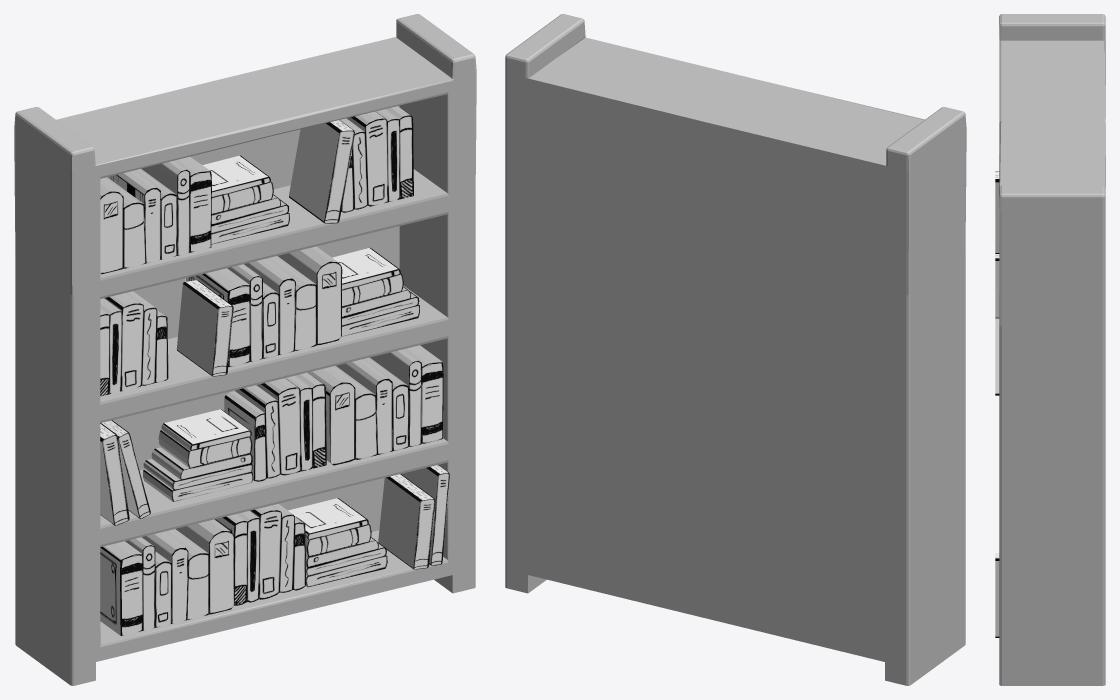
The model's file is Bookseller.fbx.
The picture shows the model from 3 angles, left to right: view 1: azimuth 30°, elevation 25°; view 2: azimuth 150°, elevation 25°; view 3: azimuth 270°, elevation 25°; orthographic projection. The views are drawn at different scales.
Visible parts, largest first — view 1: librero, libros, Libros2, Libros3, Cube.006, Cube.005, Cube.010, Cube.007, Cube.009, Cube.008; view 2: librero; view 3: librero, Cube.009, Cube.006, Cube.008, Cube.005.
Boxes of the visible parts, left/top/right/bottom form: librero: left=14, top=14, right=476, bottom=685; libros: left=100, top=156, right=443, bottom=635; Libros2: left=100, top=106, right=413, bottom=605; Libros3: left=143, top=155, right=419, bottom=587; Cube.006: left=289, top=120, right=354, bottom=223; Cube.005: left=176, top=280, right=233, bottom=376; Cube.010: left=378, top=474, right=435, bottom=569; Cube.007: left=100, top=423, right=129, bottom=525; Cube.009: left=401, top=465, right=449, bottom=565; Cube.008: left=101, top=420, right=150, bottom=518; librero: left=505, top=14, right=966, bottom=685; librero: left=999, top=14, right=1105, bottom=685; Cube.009: left=995, top=553, right=999, bottom=637; Cube.006: left=995, top=171, right=999, bottom=253; Cube.008: left=995, top=318, right=999, bottom=395; Cube.005: left=995, top=254, right=999, bottom=318.
Size of the model in its own units: 5.57 by 7 by 1.42.
